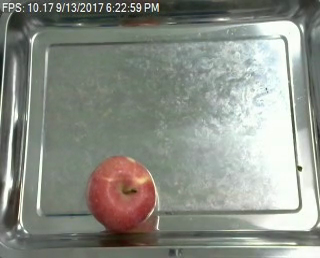Apple: (85, 154, 158, 235)
